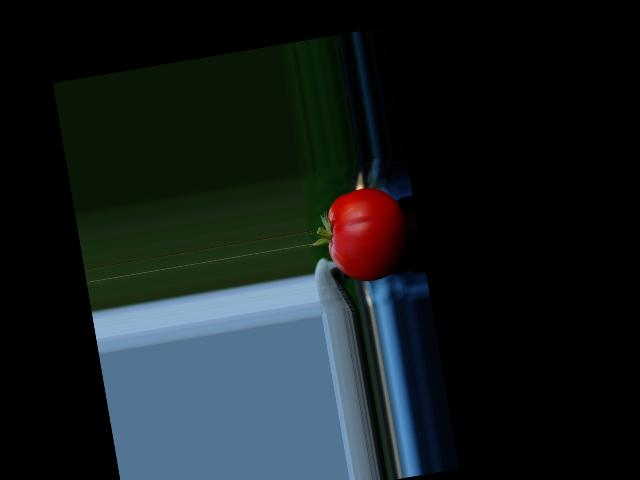tomato: (319, 182, 414, 286)
